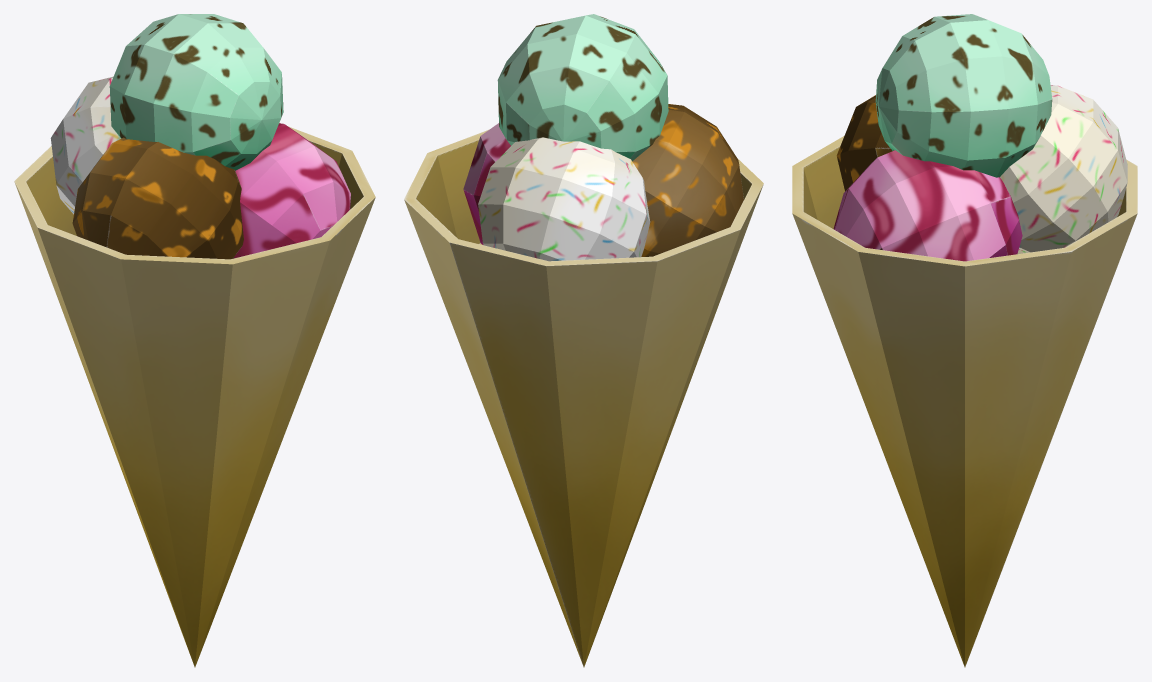
The model's file is ijsje unity.fbx.
The picture shows the model from 3 angles, left to right: view 1: azimuth 30°, elevation 25°; view 2: azimuth 150°, elevation 25°; view 3: azimuth 270°, elevation 25°; orthographic projection.
Parts seen in each view (by area): view 1: pSphere5; view 2: pSphere5; view 3: pSphere5.
Part boxes in pixels (bbox=[...]): pSphere5: bbox=[14, 14, 375, 667]; pSphere5: bbox=[404, 14, 763, 667]; pSphere5: bbox=[792, 14, 1137, 667].
Size of the model in its own units: 1.55 by 3.05 by 1.47.
